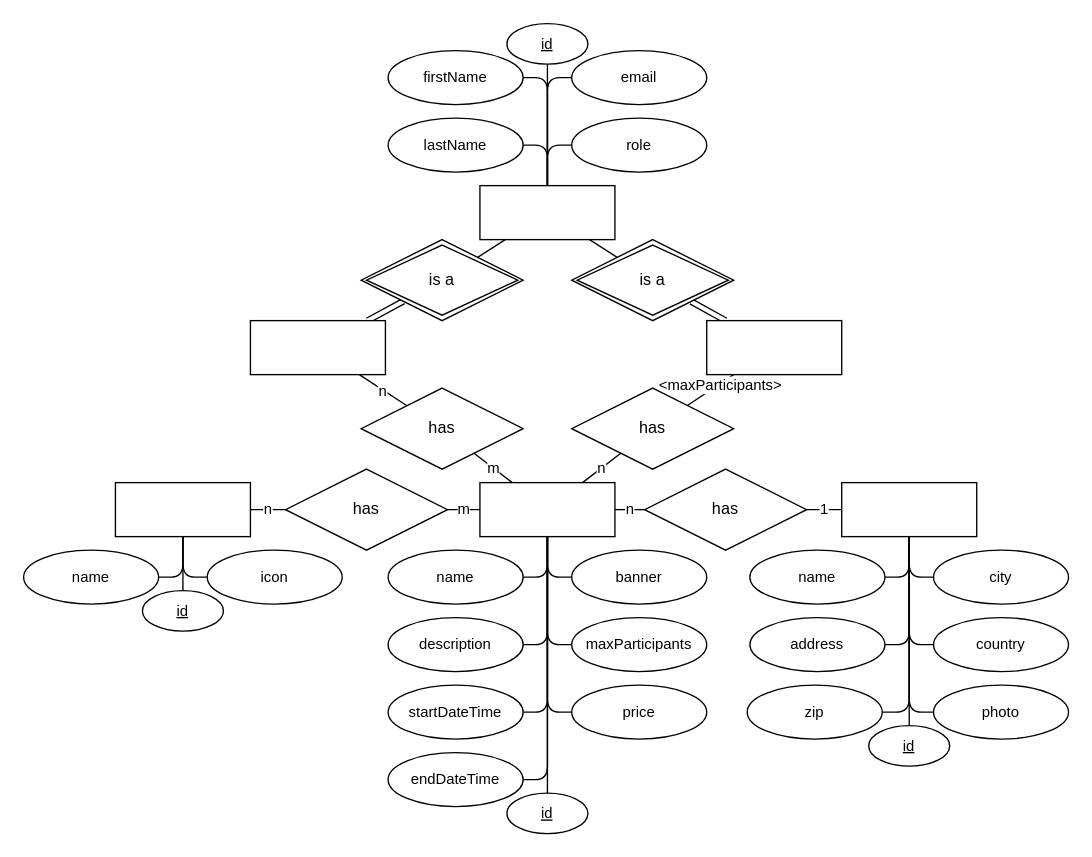
Some shapes in this 1092 by 857 pixel diagram are drawn without their labels. Here are the shapes that lost their labels. From the top down, the centre of each, then its label:
the point at 547,212: User
the point at 317,347: Manager
the point at 773,347: Participant
the point at 182,509: Category
the point at 547,509: Event
the point at 908,509: Venue
